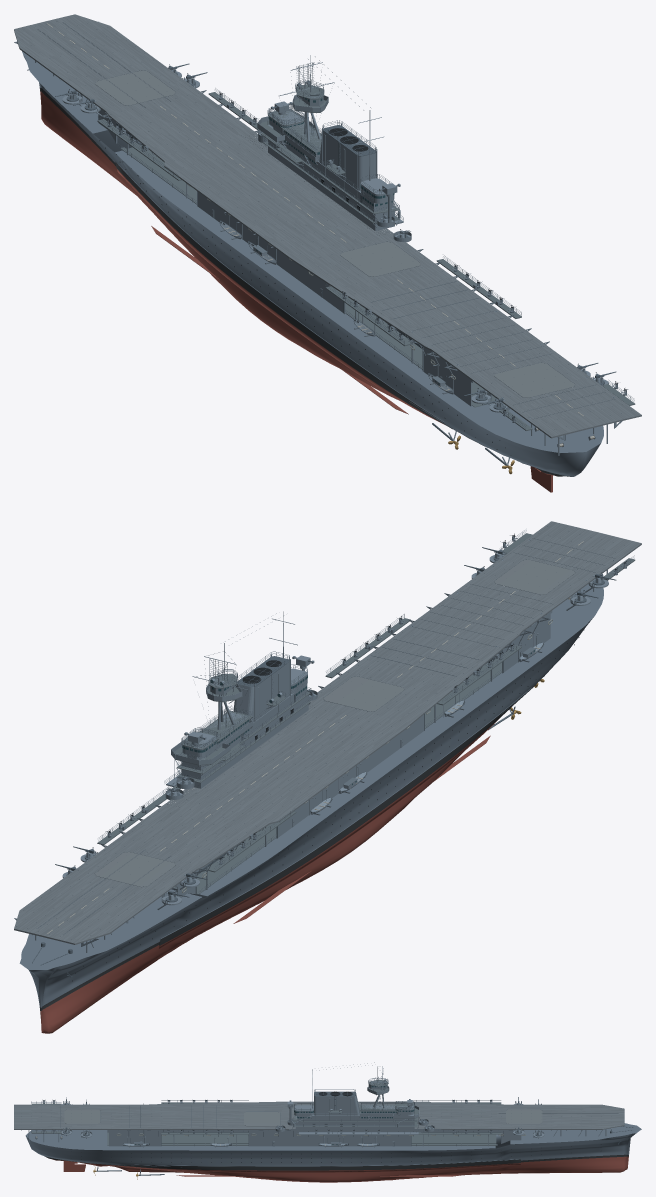
File: enterprise-cv6.glb
The picture shows the model from 3 angles, top to bottom: view 1: azimuth 30°, elevation 25°; view 2: azimuth 150°, elevation 25°; view 3: azimuth 270°, elevation 25°; orthographic projection. The views are drawn at different scales.
Visible parts, largest first — view 1: flight-deck-planking.mesh, Blueprint lofted hull, island.mesh, flight-deck.mesh, deck-equipment.mesh, hull-shell-belt-port.mesh, hangar-and-galleries.mesh, hangar-wall-port-1.mesh, elevator-forward.lift.mesh, elevator-aft.lift.mesh, elevator-middle.lift.mesh, funnel.mesh (+6 smaller); view 2: flight-deck-planking.mesh, Blueprint lofted hull, island.mesh, flight-deck.mesh, hull-shell-belt-port.mesh, deck-equipment.mesh, hangar-and-galleries.mesh, hangar-wall-port-1.mesh, elevator-forward.lift.mesh, elevator-middle.lift.mesh, elevator-aft.lift.mesh, funnel.mesh (+5 smaller); view 3: Blueprint lofted hull, flight-deck-planking.mesh, hull-shell-belt-starboard.mesh, island.mesh, hangar-deck.mesh, flight-deck.mesh, hangar-wall-starboard-1.mesh, hangar-and-galleries.mesh, deck-equipment.mesh, island-base.mesh, gallery-wall-starboard.mesh, funnel.mesh (+13 smaller).
Boxes of the visible parts, box(x1,y1,x2,y2) form: flight-deck-planking.mesh: box(14, 14, 641, 436); Blueprint lofted hull: box(22, 51, 603, 476); island.mesh: box(257, 55, 403, 227); flight-deck.mesh: box(14, 14, 641, 438); deck-equipment.mesh: box(27, 16, 622, 446); hull-shell-belt-port.mesh: box(115, 161, 444, 424); hangar-and-galleries.mesh: box(14, 21, 634, 455); hangar-wall-port-1.mesh: box(198, 192, 343, 312); elevator-forward.lift.mesh: box(95, 70, 175, 105); elevator-aft.lift.mesh: box(494, 363, 575, 397); elevator-middle.lift.mesh: box(340, 242, 420, 276); funnel.mesh: box(319, 130, 376, 190); flight-deck-planking.mesh: box(14, 521, 641, 943); Blueprint lofted hull: box(19, 584, 603, 1033); island.mesh: box(164, 611, 310, 787); flight-deck.mesh: box(14, 523, 641, 944); hull-shell-belt-port.mesh: box(158, 687, 531, 949); deck-equipment.mesh: box(16, 526, 624, 977); hangar-and-galleries.mesh: box(14, 530, 634, 952); hangar-wall-port-1.mesh: box(278, 714, 423, 837); elevator-forward.lift.mesh: box(95, 852, 175, 887); elevator-middle.lift.mesh: box(323, 676, 403, 711); elevator-aft.lift.mesh: box(494, 559, 574, 594); funnel.mesh: box(233, 661, 289, 722); Blueprint lofted hull: box(25, 1123, 641, 1182); flight-deck-planking.mesh: box(14, 1101, 624, 1128); hull-shell-belt-starboard.mesh: box(134, 1159, 520, 1172); island.mesh: box(289, 1062, 420, 1134); hangar-deck.mesh: box(107, 1132, 496, 1145); flight-deck.mesh: box(14, 1101, 624, 1129); hangar-wall-starboard-1.mesh: box(249, 1132, 410, 1146); hangar-and-galleries.mesh: box(21, 1100, 611, 1146); deck-equipment.mesh: box(21, 1102, 633, 1147); island-base.mesh: box(295, 1116, 414, 1130); gallery-wall-starboard.mesh: box(107, 1129, 522, 1132); funnel.mesh: box(314, 1093, 359, 1115).
Bounding box in the file's own units: 35.29 × 53.52 × 251.
